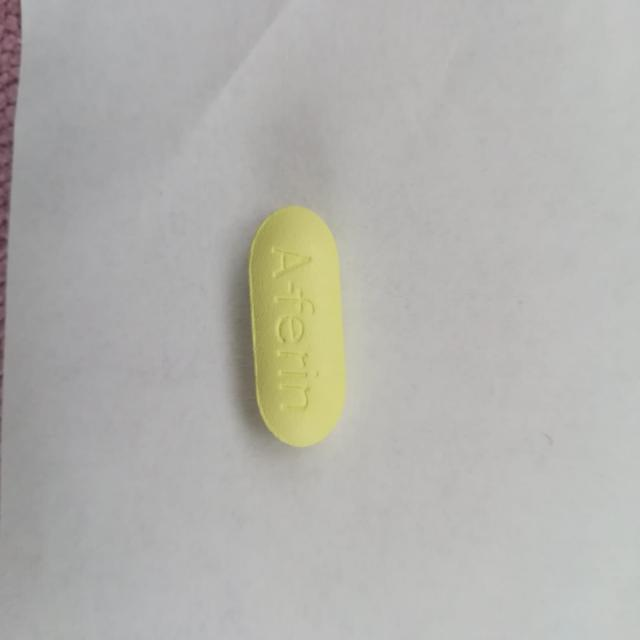pills: (244, 198, 353, 454)
